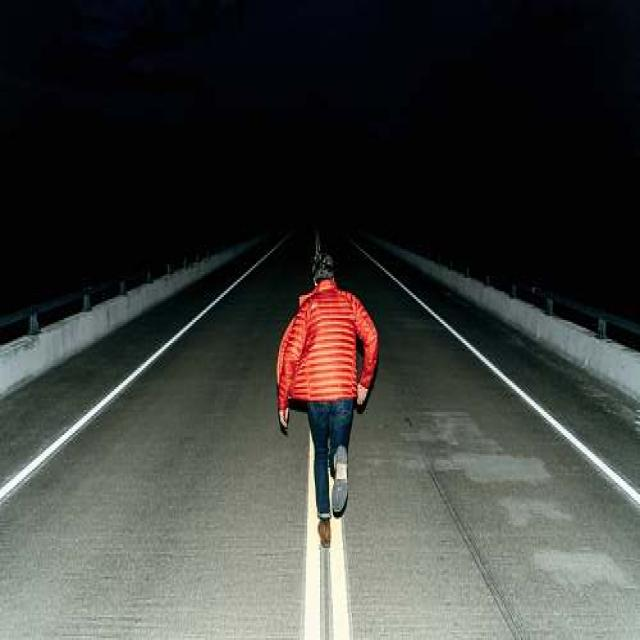running: (275, 248, 382, 550)
